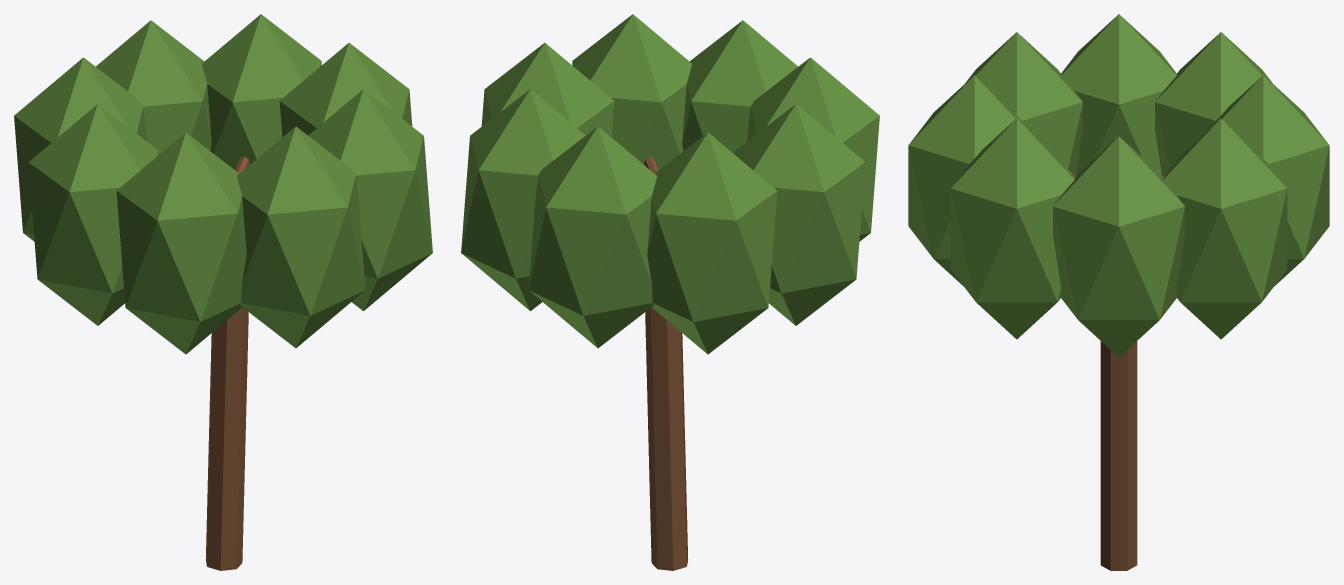
Rendered from tree_10.glb.
3 renders of one model, left to right at view 1: azimuth 30°, elevation 25°; view 2: azimuth 150°, elevation 25°; view 3: azimuth 270°, elevation 25°, orthographic.
Visible parts, largest first — view 1: tree_10; view 2: tree_10; view 3: tree_10.
Boxes of the visible parts, left/top/right/bottom form: tree_10: left=14, top=14, right=432, bottom=570; tree_10: left=461, top=14, right=879, bottom=570; tree_10: left=908, top=14, right=1329, bottom=570.
Bounding box in the file's own units: 3.39 × 4.27 × 3.34.
